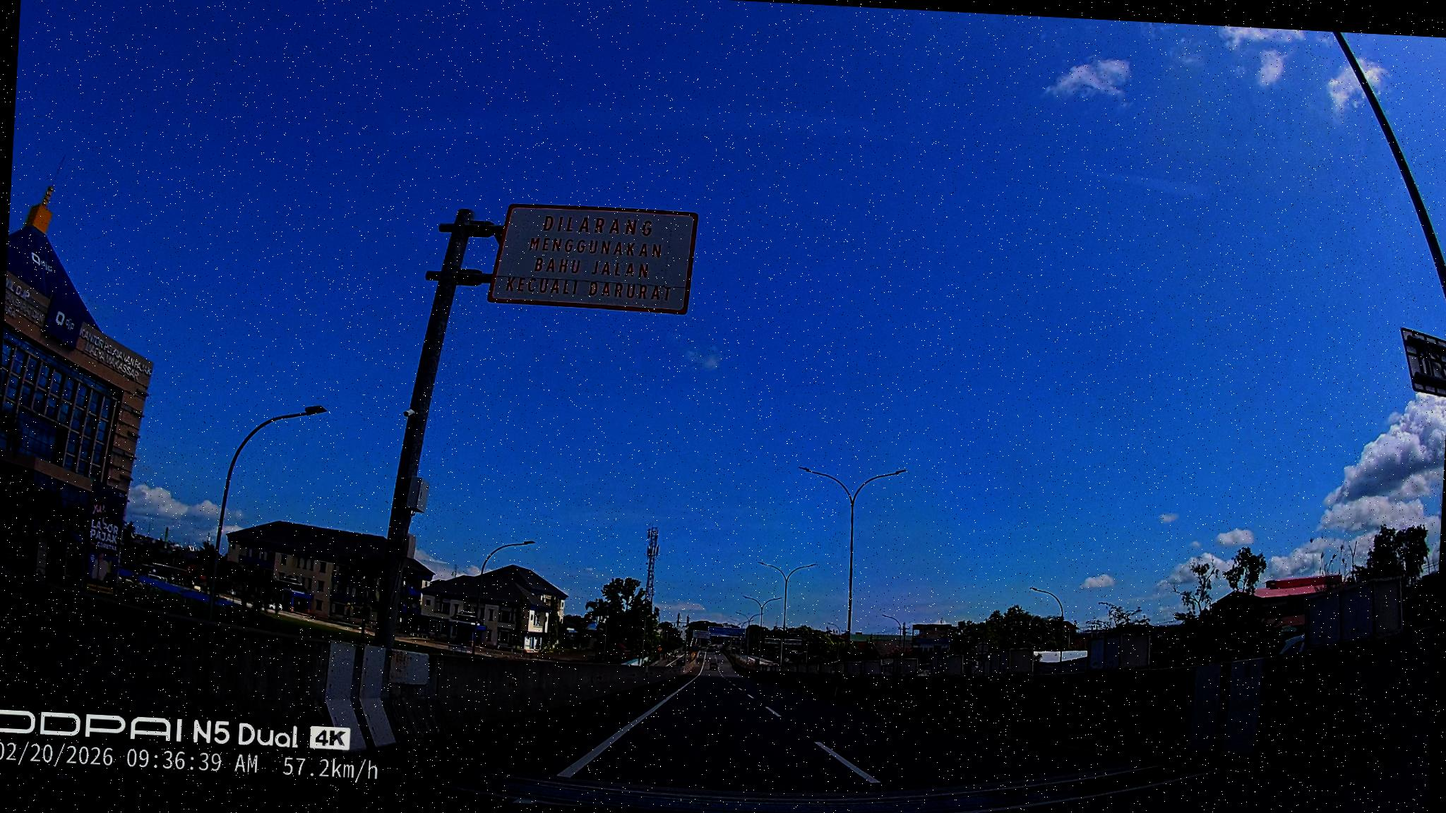rambu_teks: (486, 200, 699, 316)
